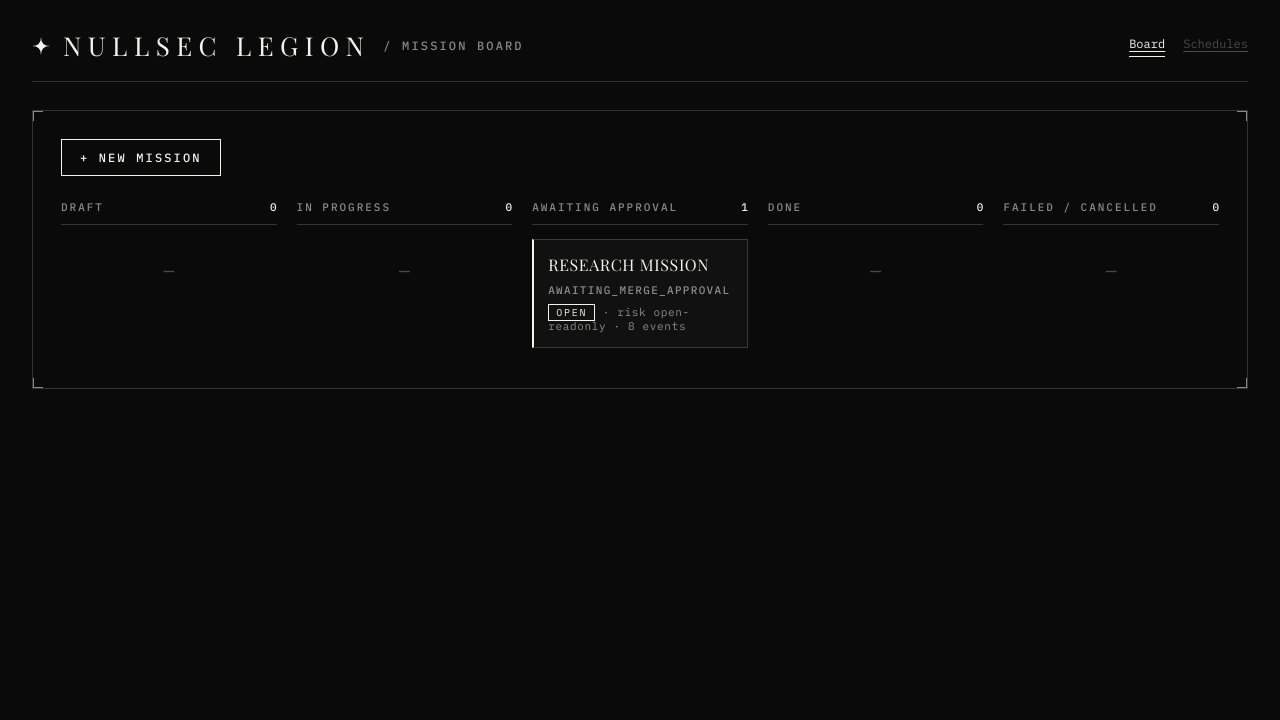
it: T76: open missions on the board › the report preview renders markdown with a clickable citation
This screenshot has width=1280, height=720.
Click the button that starts with "Research mission": (640, 294) [532,239,748,348]
(page scrolled)
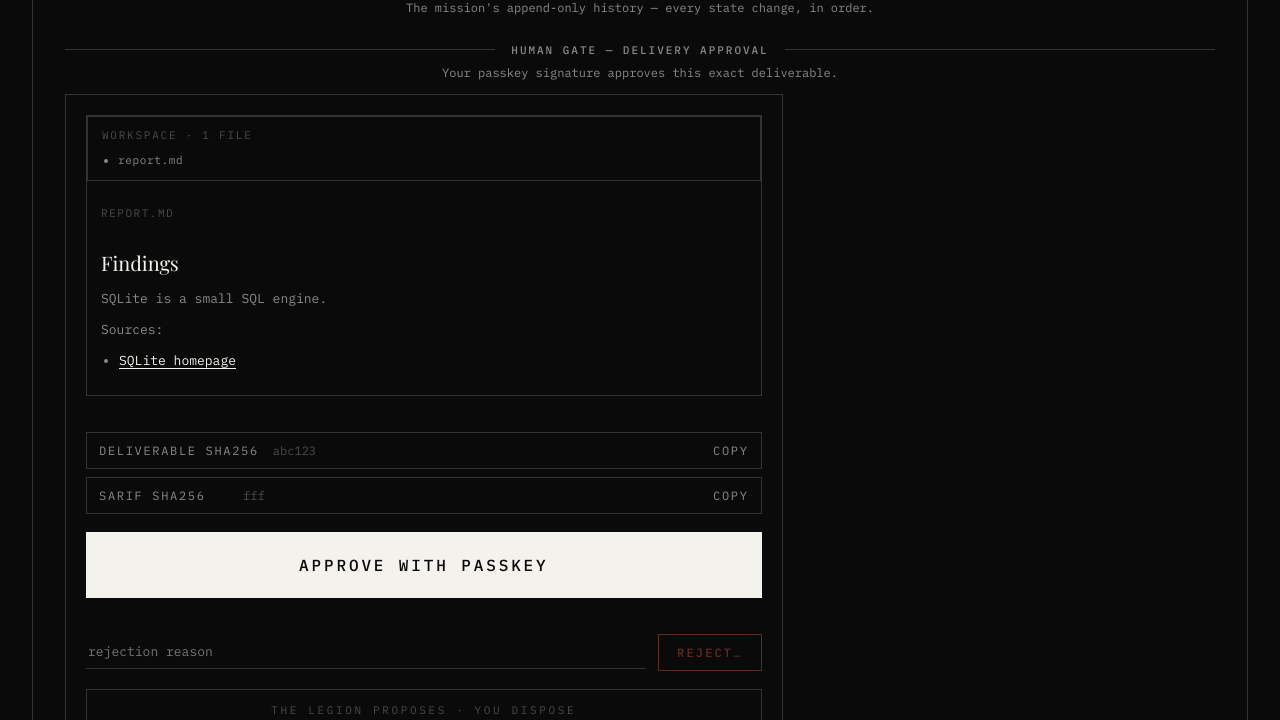
Result: the link to "https://sqlite.org/index.html" reads "SQLite homepage" at [119,352,236,369]
